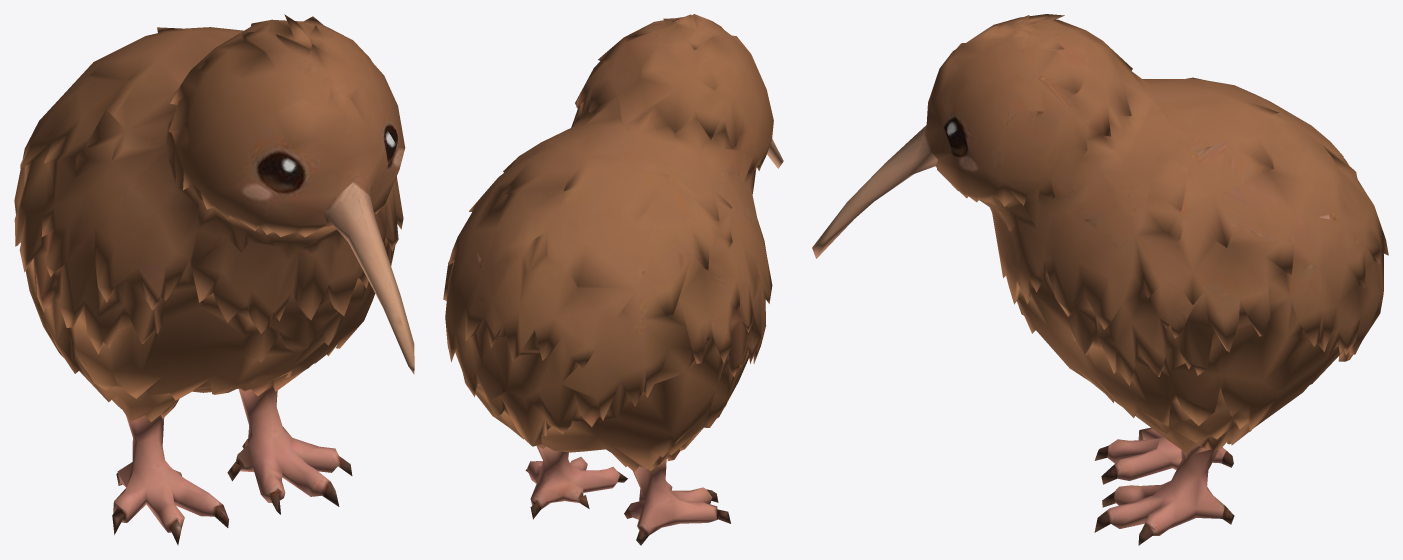
File: kiwi.glb
The picture shows the model from 3 angles, left to right: view 1: azimuth 30°, elevation 25°; view 2: azimuth 150°, elevation 25°; view 3: azimuth 270°, elevation 25°; orthographic projection. The views are drawn at different scales.
Visible parts, largest first — view 1: model; view 2: model; view 3: model.
Boxes of the visible parts, x1,y1,x2,y2 form: model: [14, 14, 414, 545]; model: [443, 14, 783, 545]; model: [812, 14, 1388, 545].
Size of the model in its own units: 1.12 by 1.74 by 1.89.
1 material, 1 textured.
